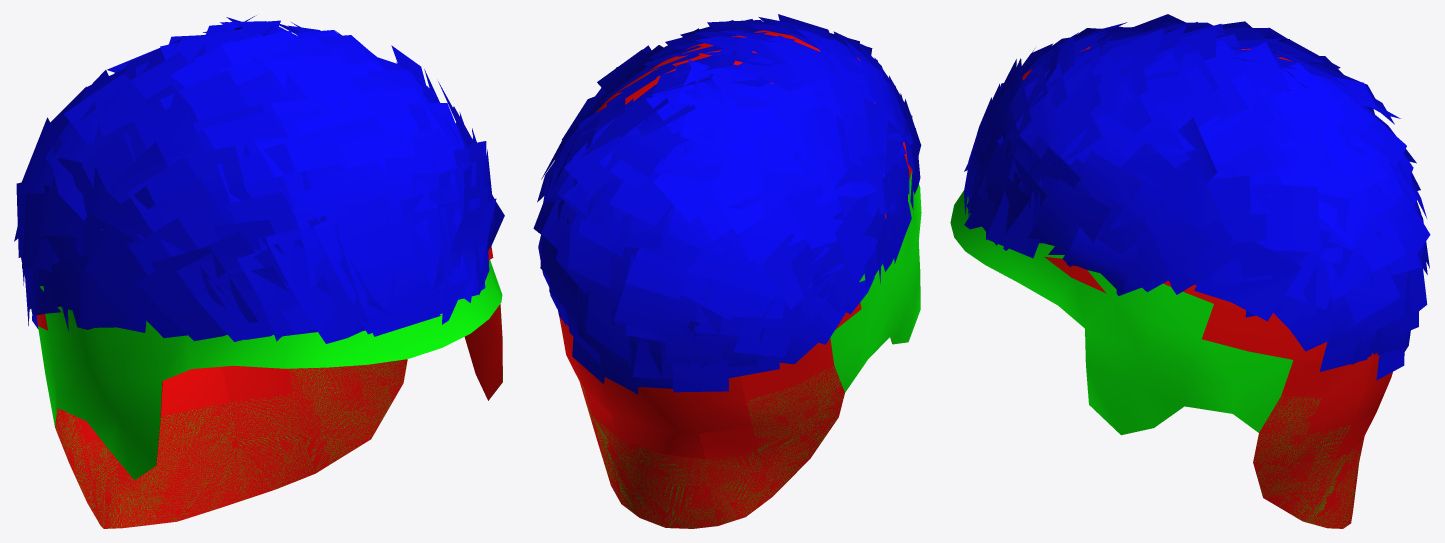
Rendered from hair_003.obj.
3 views of the same model, side by side, from view 1: azimuth 30°, elevation 25°; view 2: azimuth 150°, elevation 25°; view 3: azimuth 270°, elevation 25° (orthographic). The views are drawn at different scales.
Size of the model in its own units: 15.86 by 20.71 by 18.99.
